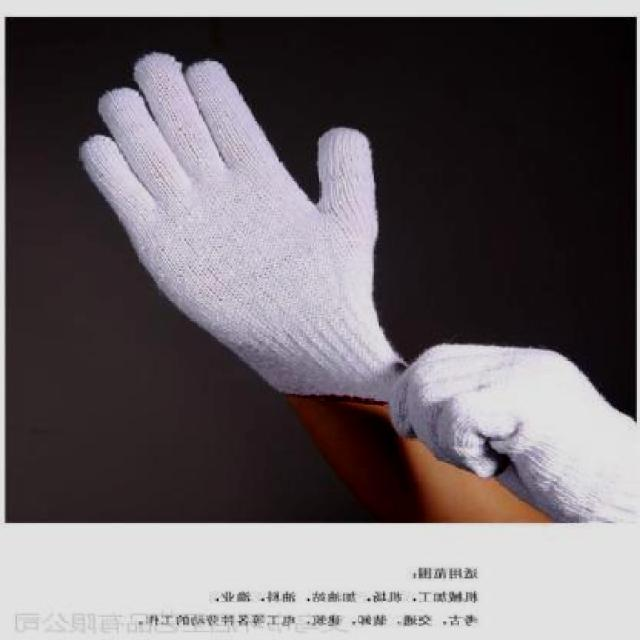hand_glove: (80, 53, 406, 350), (385, 341, 640, 526)
